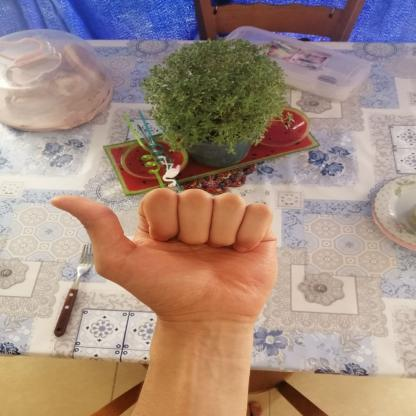DAD: (36, 177, 289, 331)
